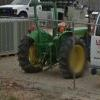Tractor: (15, 11, 92, 81)
